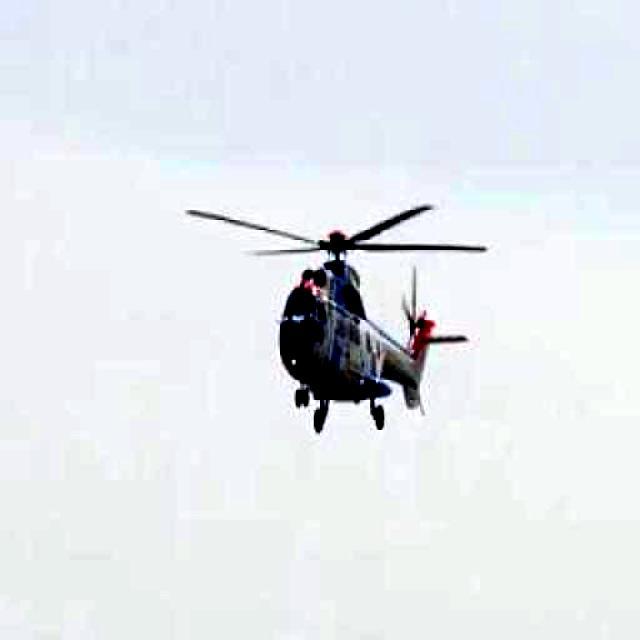drone: (158, 164, 518, 440)
